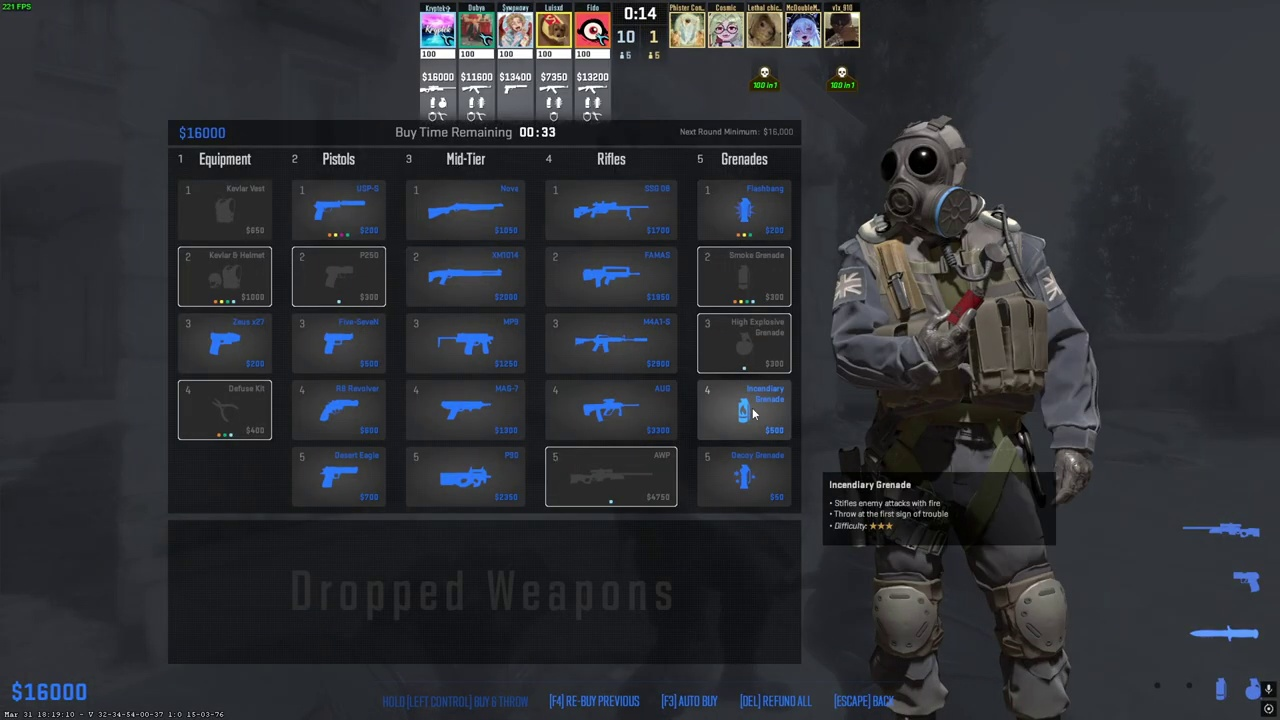CT: (831, 119, 1100, 716)
